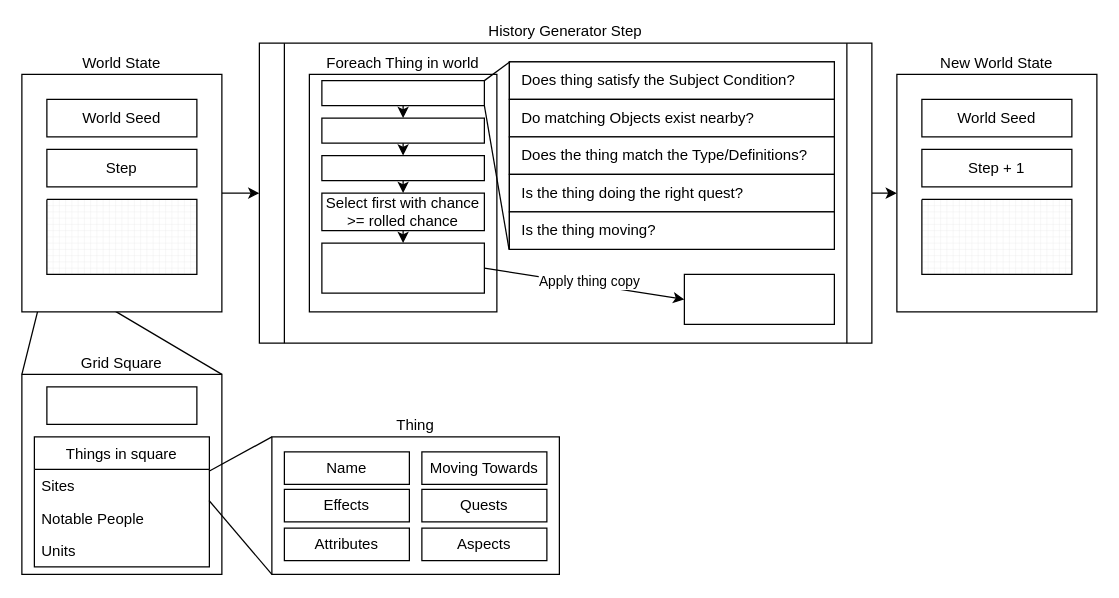
The diagram is 1119 pixels wide and 598 high, and some of its shapes have lost their labels. Here are the shapes that lost their labels. From the top down, the centre of each, then its label:
point 402,92: Filter all events
point 402,130: Shuffle filtered events
point 402,167: Roll chance (1 to 100)
point 121,236: World Grid
point 996,236: New World Grid
point 402,267: Create/update copy of thing(s) with effects
point 758,298: New World State (Step+1)
point 121,405: Square Definition
